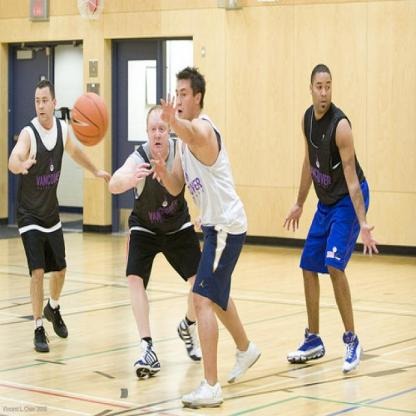basketball: (72, 93, 109, 145)
